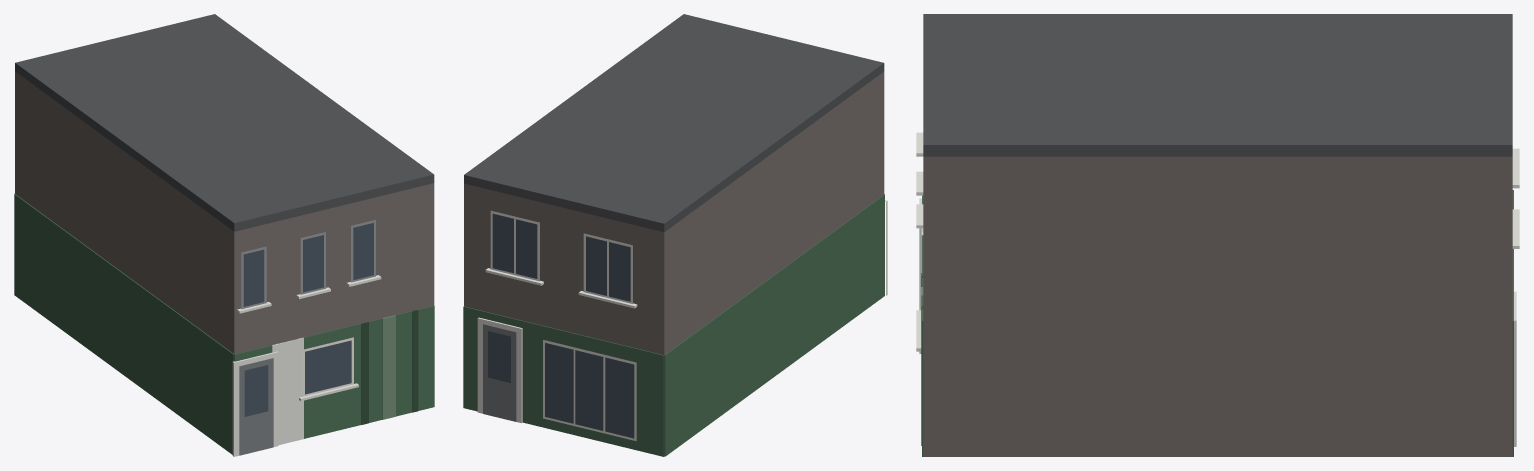
File: th-kz-row__green__2__flat__long__solid.glb
The picture shows the model from 3 angles, left to right: view 1: azimuth 30°, elevation 25°; view 2: azimuth 150°, elevation 25°; view 3: azimuth 270°, elevation 25°; orthographic projection. The views are drawn at different scales.
Parts seen in each view (by area): view 1: th-kz-row__green__2__flat__long__solid; view 2: th-kz-row__green__2__flat__long__solid; view 3: th-kz-row__green__2__flat__long__solid.
Part boxes in pixels (x1,y1,x2,y2): th-kz-row__green__2__flat__long__solid: [14, 14, 434, 456]; th-kz-row__green__2__flat__long__solid: [463, 14, 887, 456]; th-kz-row__green__2__flat__long__solid: [916, 14, 1519, 456].
Size of the model in its own units: 5.43 by 5.97 by 10.46.
